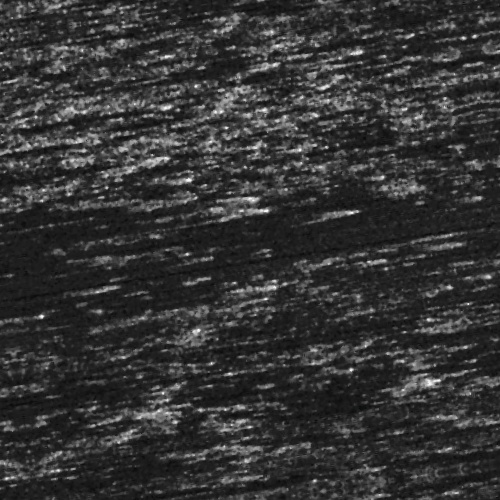object: (102, 126, 155, 159), (293, 223, 386, 230), (222, 205, 253, 214), (227, 12, 258, 17), (242, 191, 253, 198)
shadow: (0, 126, 128, 159), (408, 69, 500, 78), (81, 12, 242, 17), (157, 205, 238, 214), (434, 40, 500, 51), (167, 191, 247, 198), (261, 223, 339, 230), (455, 253, 500, 262), (491, 163, 500, 176)
